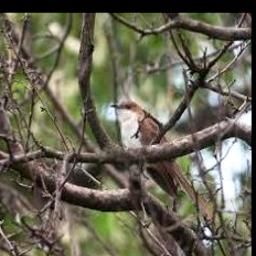Cuckoo: (111, 99, 218, 223)
